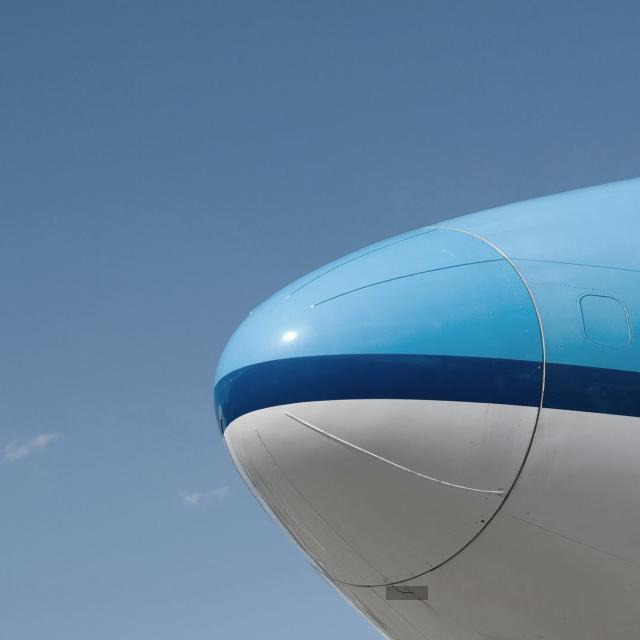crack: (387, 587, 429, 601)
